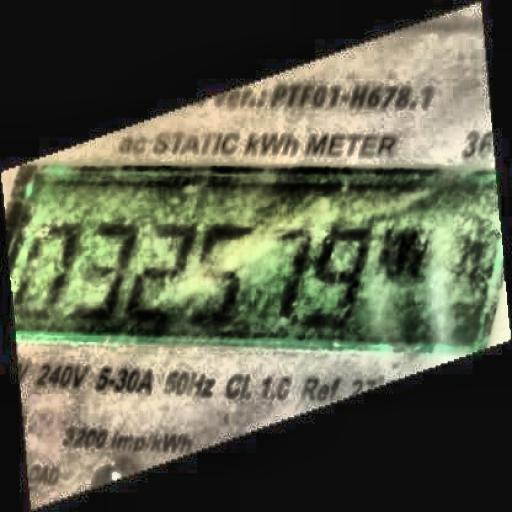DISPLAY_REGION: (3, 159, 508, 351)
SERIAL_REGION: (15, 214, 436, 339)
